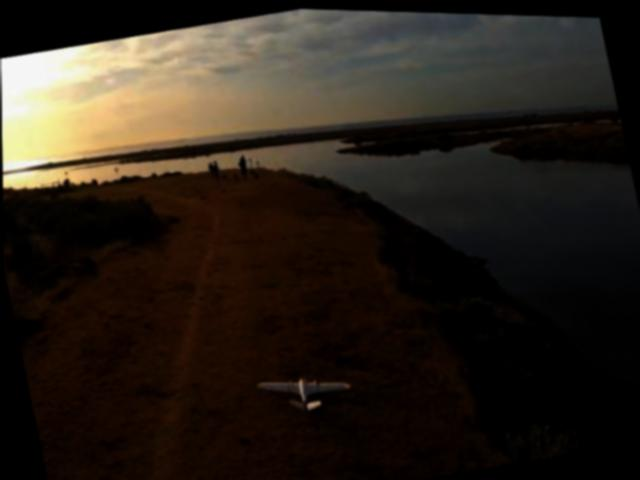uav: (252, 360, 354, 420)
